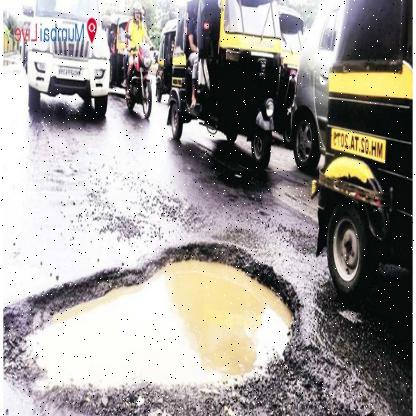pothole_water: (7, 222, 308, 406)
